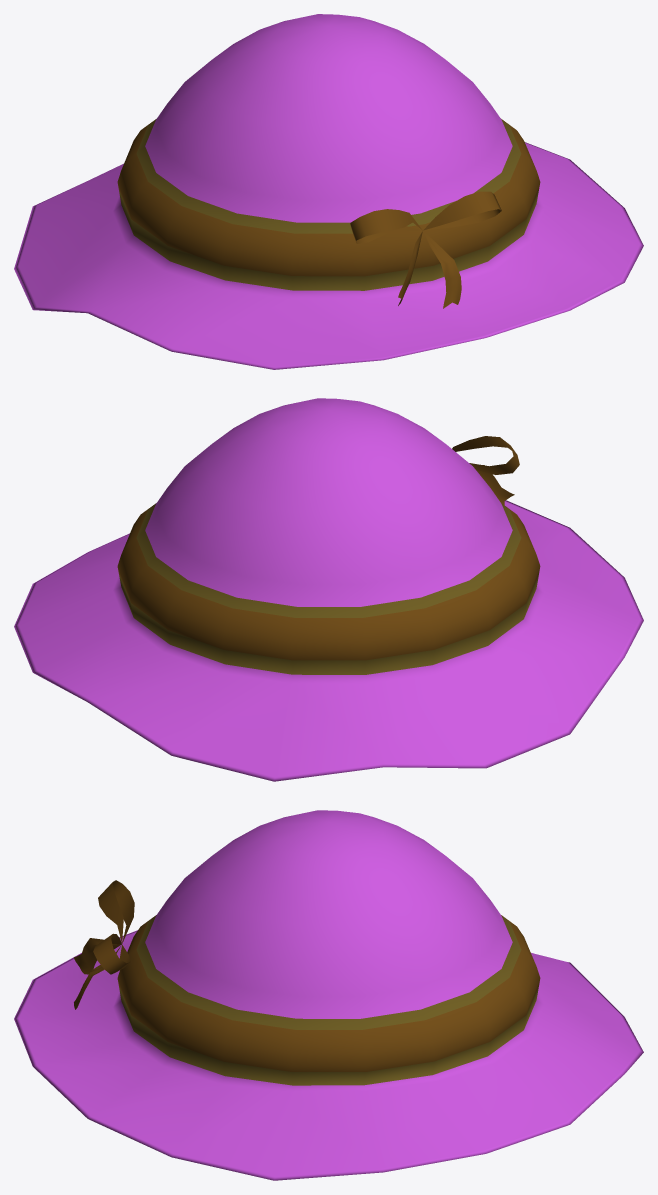
Rendered from Hat_9.FBX.
The picture shows the model from 3 angles, top to bottom: view 1: azimuth 30°, elevation 25°; view 2: azimuth 150°, elevation 25°; view 3: azimuth 270°, elevation 25°; orthographic projection.
Parts seen in each view (by area): view 1: pinkhat; view 2: pinkhat; view 3: pinkhat.
Part boxes in pixels (x1,y1,x2,y2): pinkhat: (14, 14, 643, 369); pinkhat: (14, 398, 643, 781); pinkhat: (14, 810, 643, 1180).
Size of the model in its own units: 55.12 by 23.8 by 55.96.
